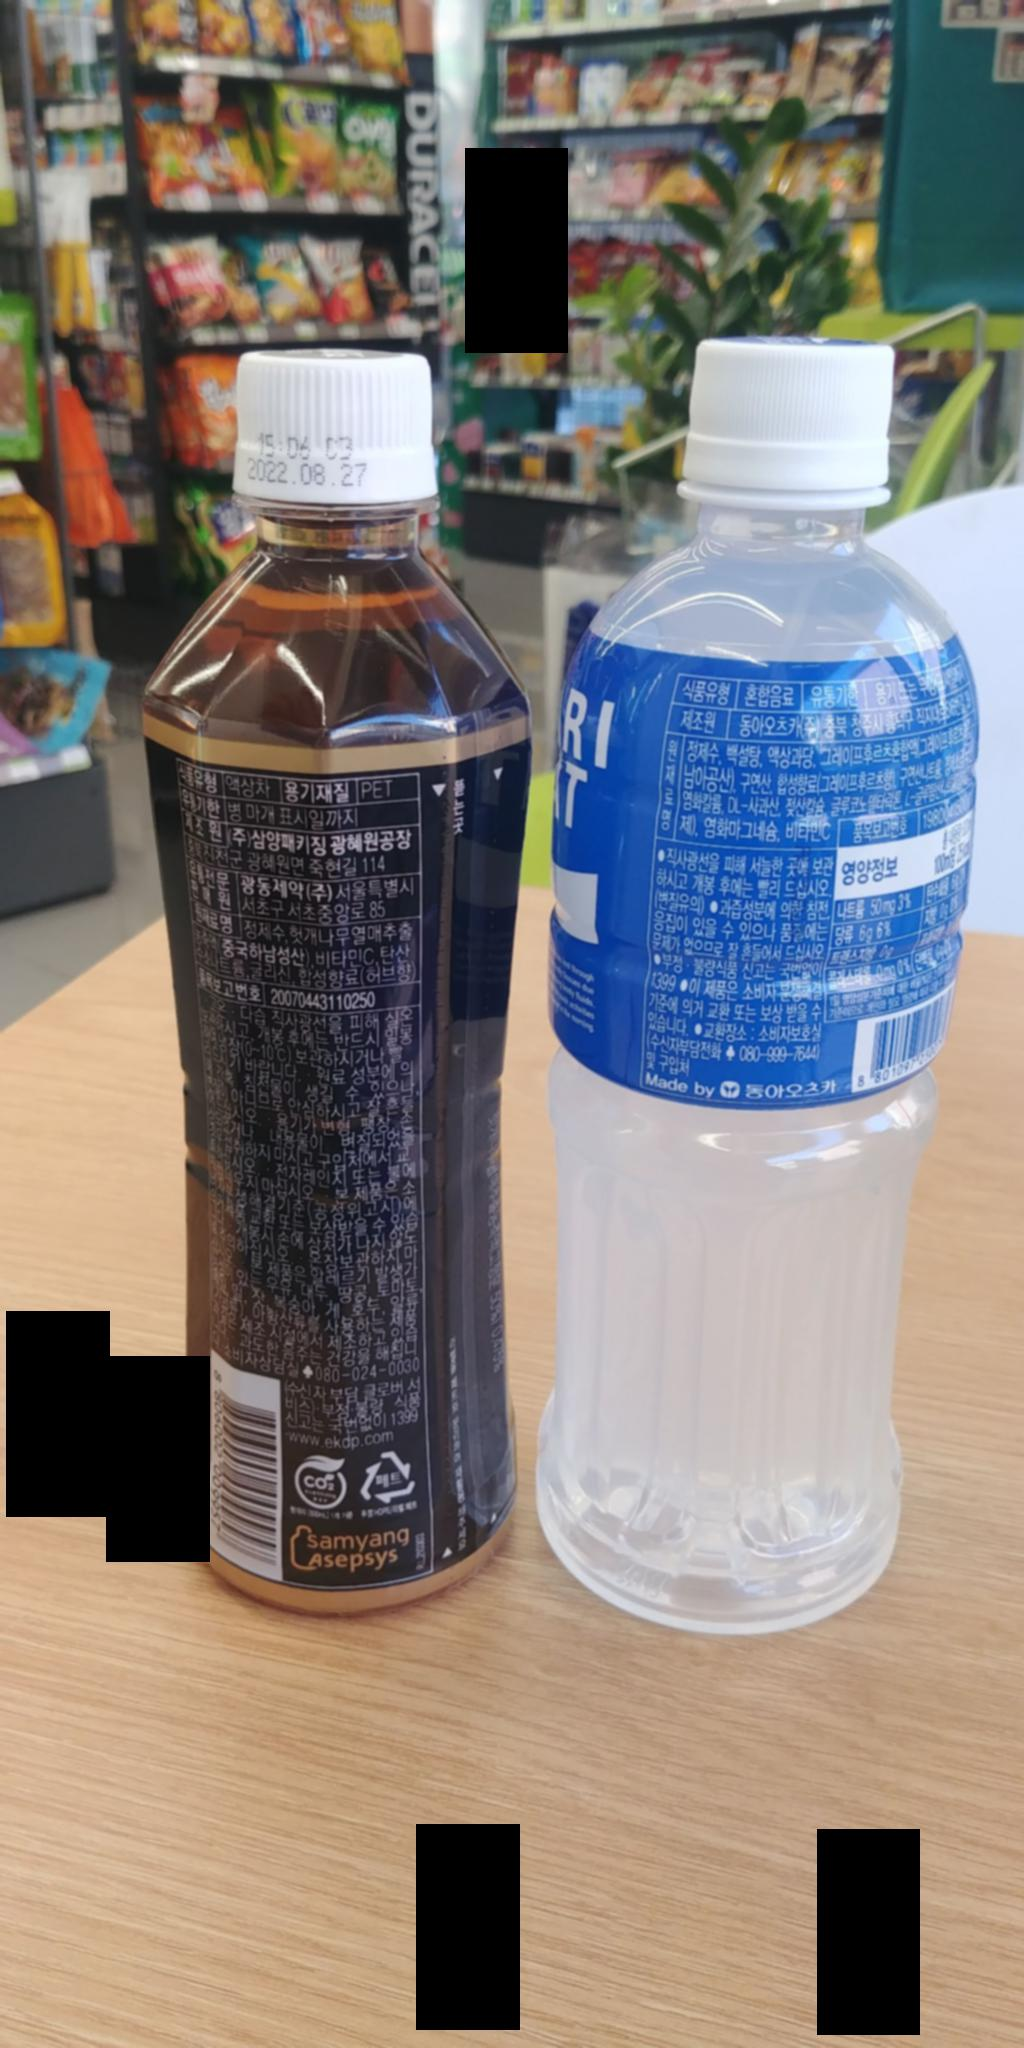heotgaecha: (124, 320, 550, 1618)
pocarisweat: (498, 320, 1006, 1654)
